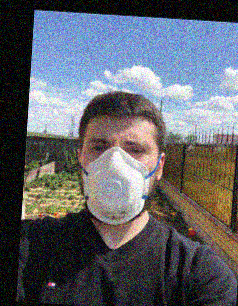with_mask: (79, 130, 154, 225)
